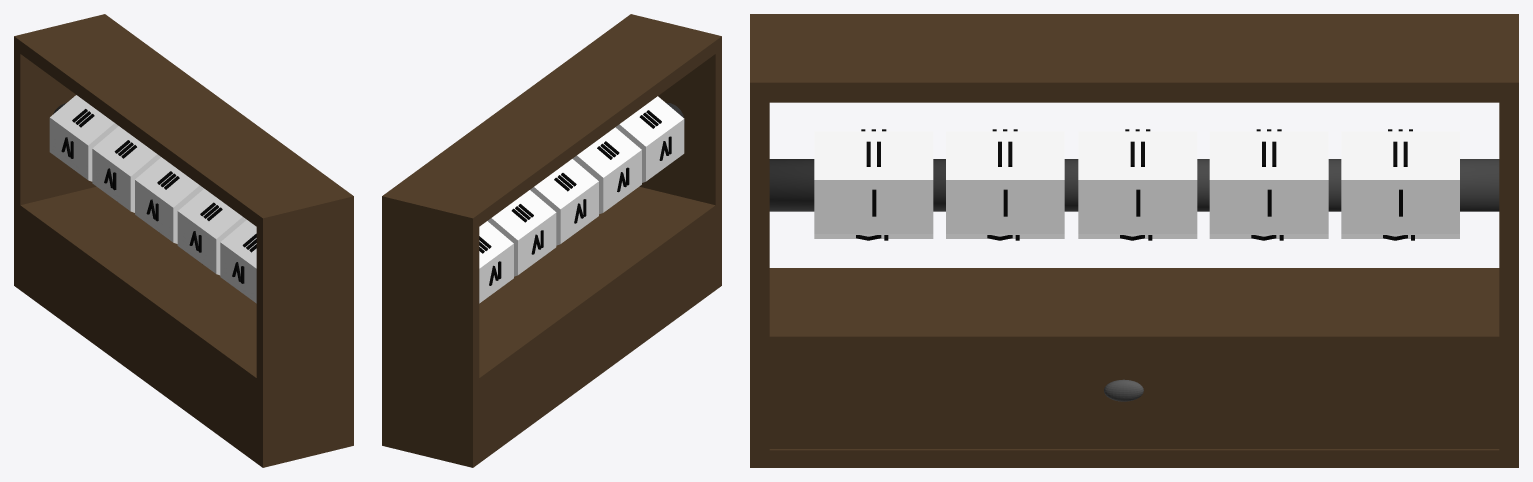
The model's file is Roleta_Numeros.fbx.
3 views of the same model, side by side, from view 1: azimuth 30°, elevation 25°; view 2: azimuth 150°, elevation 25°; view 3: azimuth 270°, elevation 25° (orthographic). The views are drawn at different scales.
Visible parts, largest first — view 1: Cube, 2, 5, 3, 4, 1; view 2: Cube, 2, 4, 1, 3, 5; view 3: Cube, Cube.001, 1, 3, 4, 2, 5.
Boxes of the visible parts, x1=… form: Cube: x1=14, y1=14, x2=353, y2=467; 2: x1=177, y1=188, x2=246, y2=275; 5: x1=49, y1=95, x2=118, y2=181; 3: x1=135, y1=157, x2=203, y2=243; 4: x1=92, y1=126, x2=160, y2=212; 1: x1=220, y1=220, x2=256, y2=303; Cube: x1=382, y1=14, x2=721, y2=467; 2: x1=572, y1=127, x2=641, y2=214; 4: x1=487, y1=190, x2=556, y2=276; 1: x1=615, y1=96, x2=684, y2=182; 3: x1=530, y1=159, x2=598, y2=245; 5: x1=479, y1=221, x2=513, y2=303; Cube: x1=750, y1=14, x2=1518, y2=467; Cube.001: x1=769, y1=374, x2=1499, y2=448; 1: x1=814, y1=129, x2=933, y2=240; 3: x1=1078, y1=129, x2=1197, y2=240; 4: x1=1209, y1=129, x2=1328, y2=240; 2: x1=946, y1=129, x2=1064, y2=240; 5: x1=1341, y1=129, x2=1459, y2=240.
Size of the model in its own units: 403 by 1024 by 1851.
